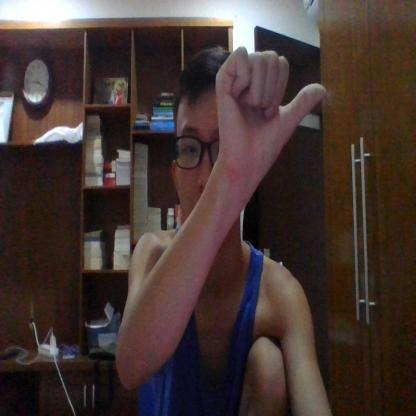left: (215, 42, 326, 184)
